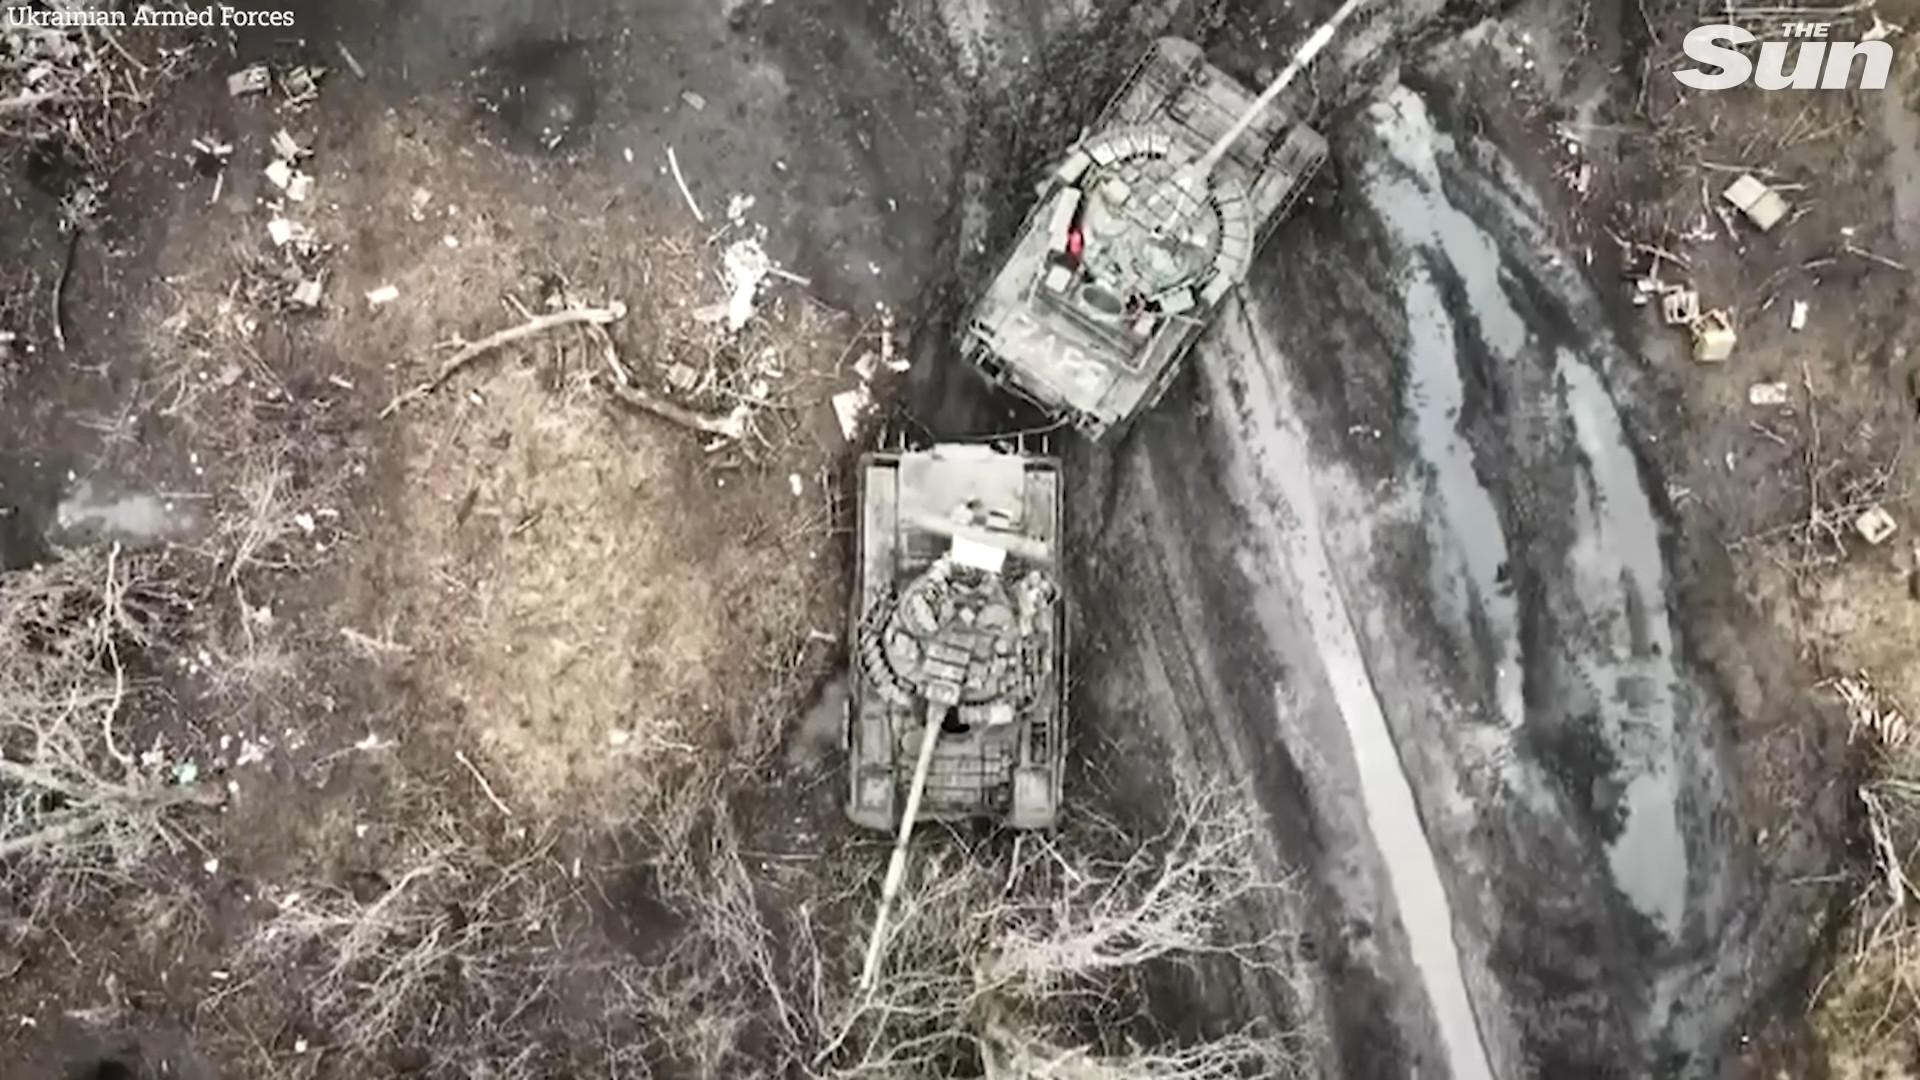tank: (952, 0, 1361, 450), (845, 440, 1064, 993)
